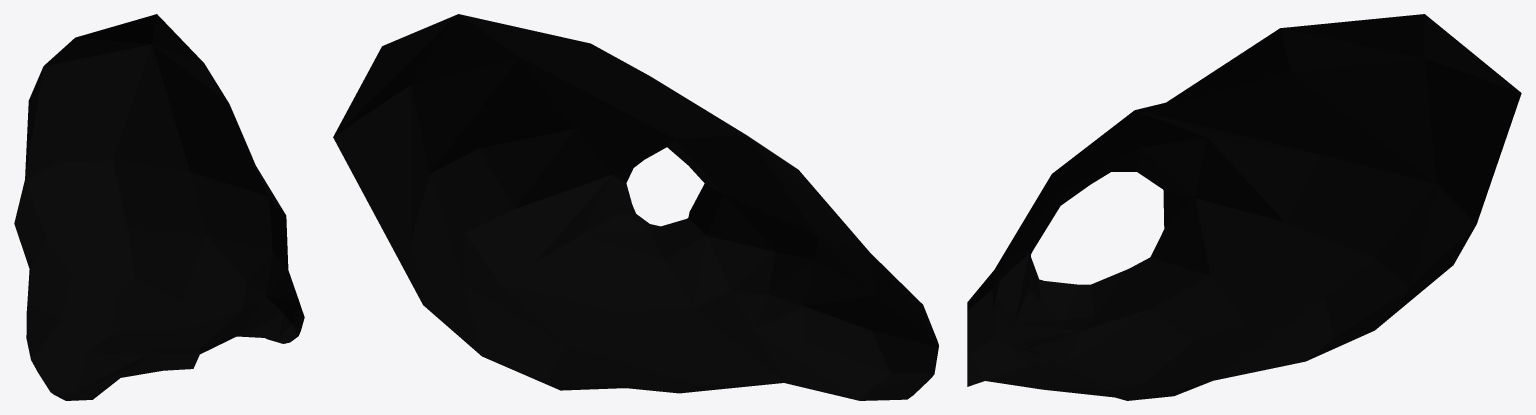
The picture shows the model from 3 angles, left to right: view 1: azimuth 30°, elevation 25°; view 2: azimuth 150°, elevation 25°; view 3: azimuth 270°, elevation 25°; orthographic projection. The views are drawn at different scales.
Size of the model in its own units: 0.9718 by 0.9162 by 1.19.
1 material, 1 textured.
